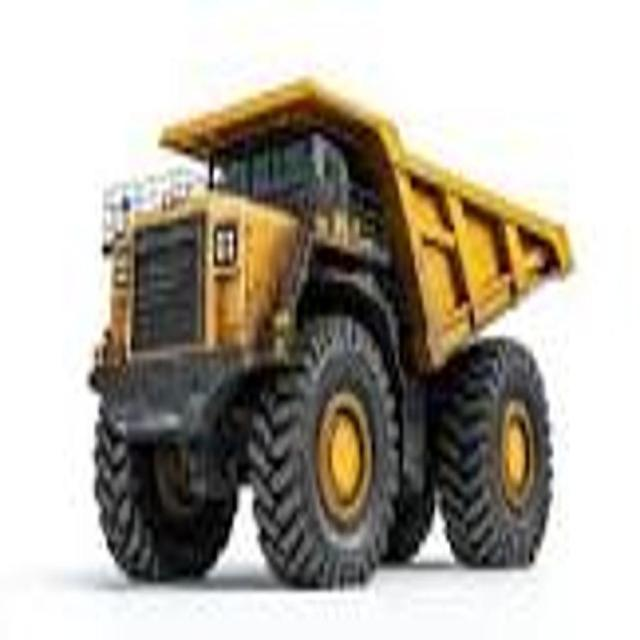dump_truck: (92, 57, 569, 640)
